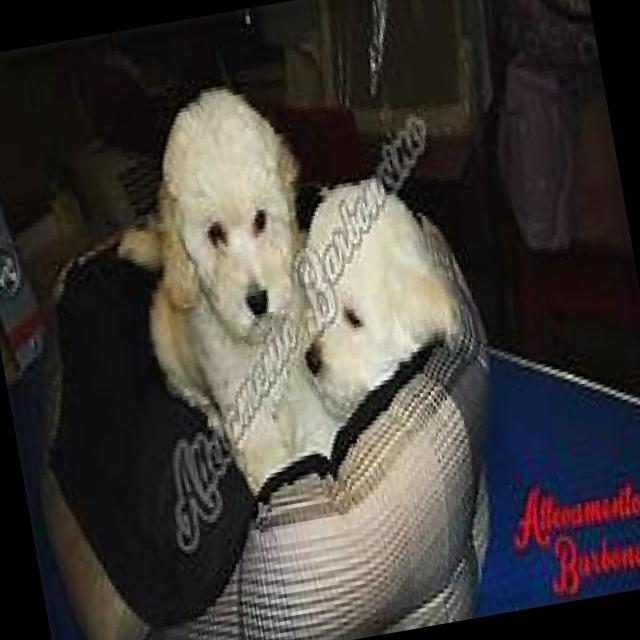animal: (103, 74, 335, 512), (271, 162, 489, 440)
